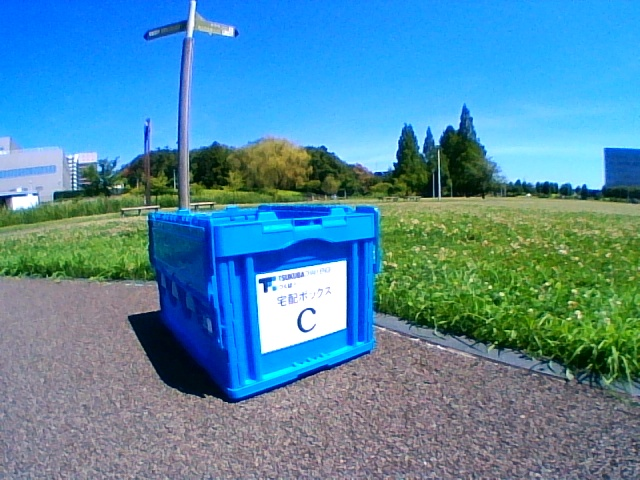blue_box: (149, 205, 379, 399)
tag_c: (274, 281, 329, 333)
